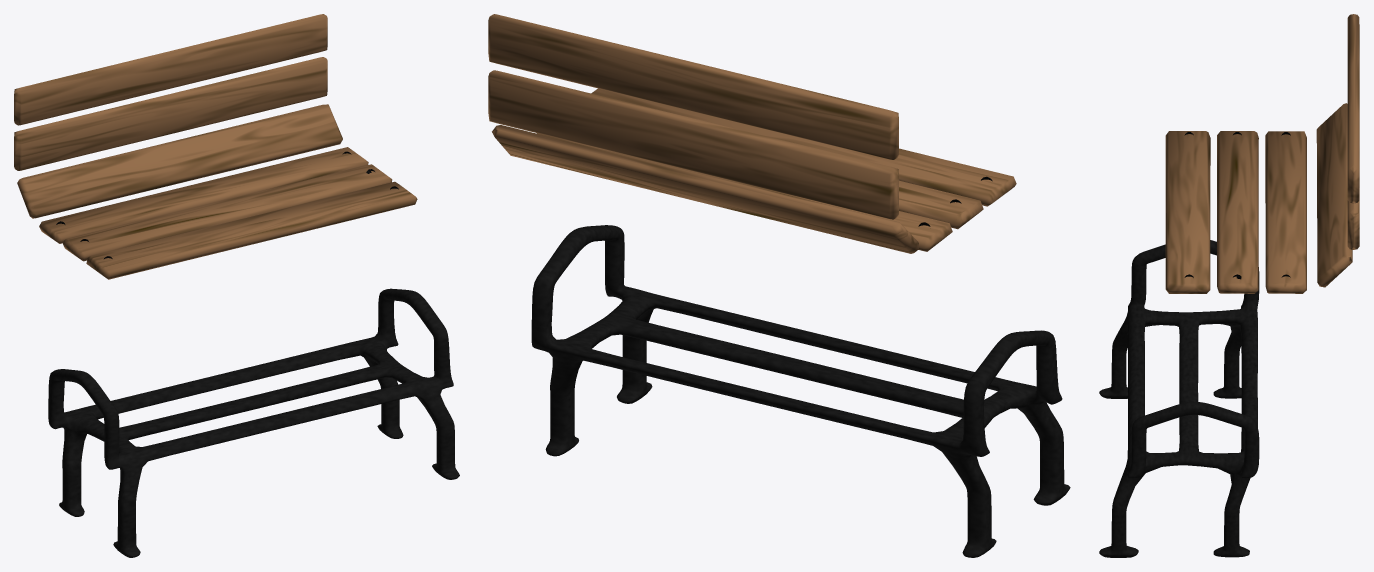
Rendered from couple_bench.glb.
3 renders of one model, left to right at view 1: azimuth 30°, elevation 25°; view 2: azimuth 150°, elevation 25°; view 3: azimuth 270°, elevation 25°, orthographic. The views are drawn at different scales.
Visible parts, largest first — view 1: Bench, Base; view 2: Bench, Base; view 3: Bench, Base.
Boxes of the visible parts, x1,y1,x2,y2 form: Bench: [14, 14, 417, 279]; Base: [48, 288, 459, 557]; Bench: [488, 14, 1016, 253]; Base: [531, 225, 1070, 557]; Bench: [1165, 14, 1359, 293]; Base: [1099, 240, 1259, 557].
Bounding box in the file's own units: 1.67 × 1.75 × 1.07.
2 materials, 2 textured.
